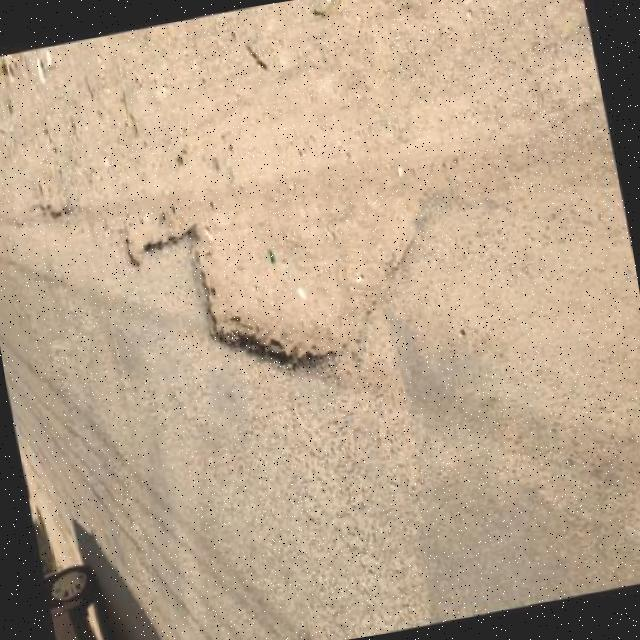Pothole: (106, 164, 419, 371), (27, 162, 81, 219)
